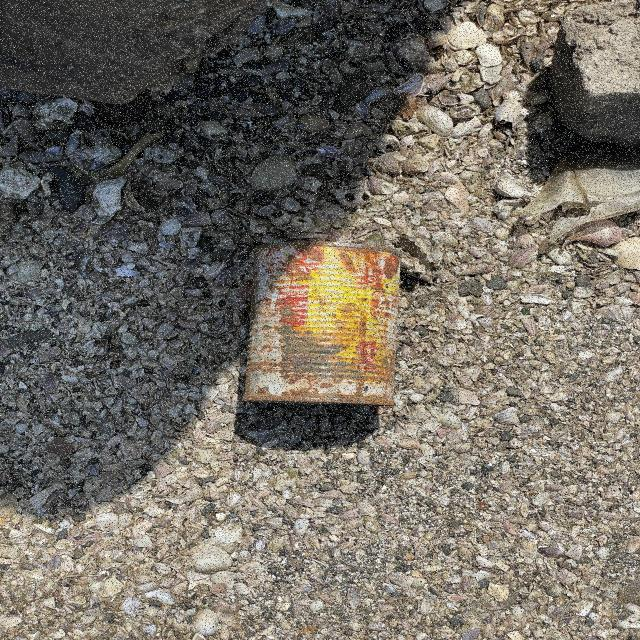metal_waste: (242, 243, 404, 408)
